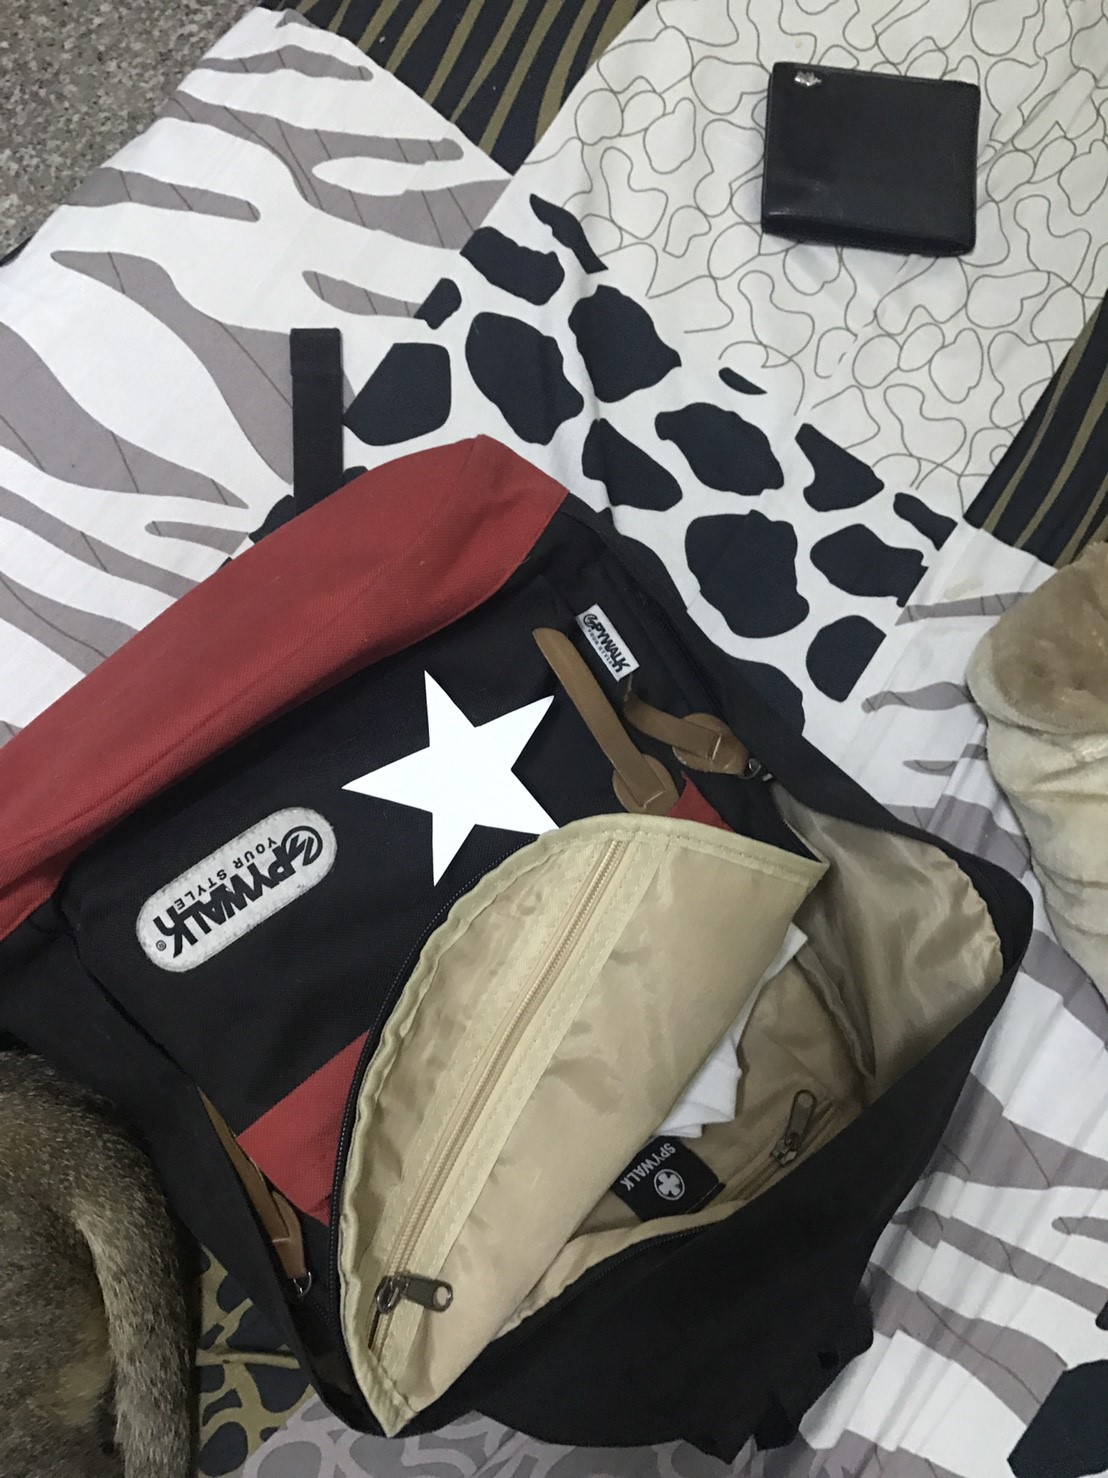star: (320, 630, 612, 916)
